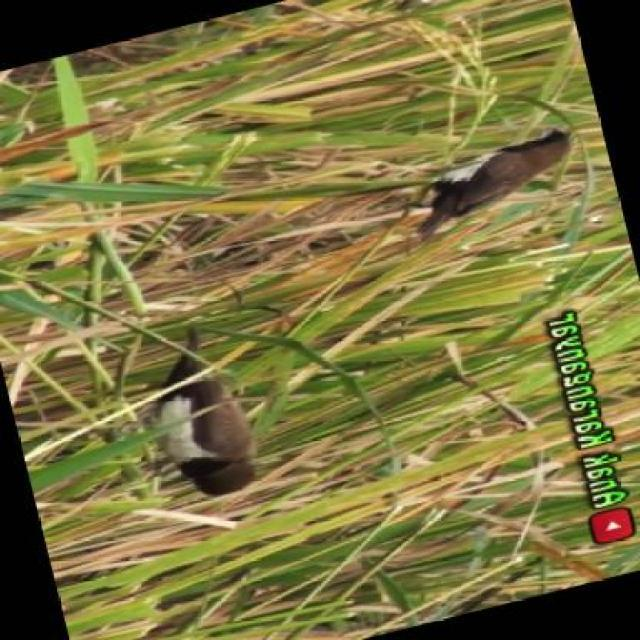Bird: (148, 320, 276, 513), (415, 126, 589, 249)
